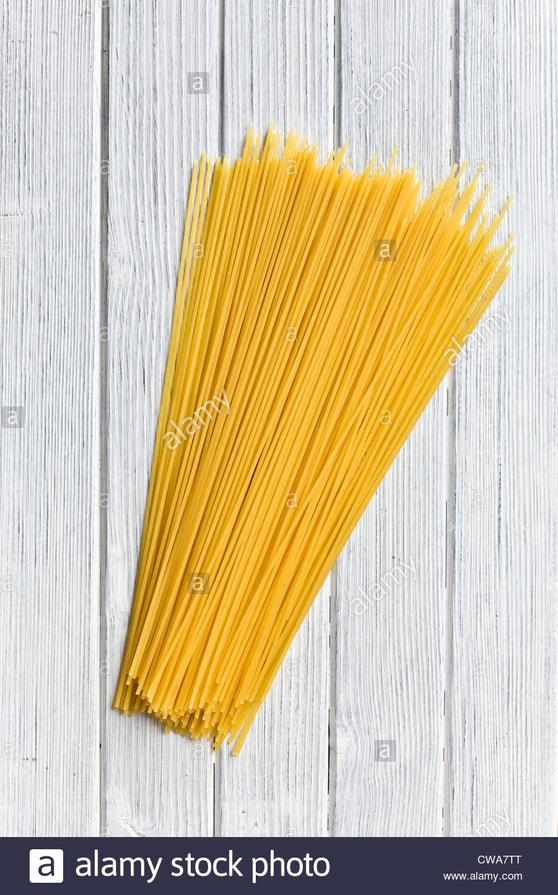spaghetti: (136, 129, 514, 755)
